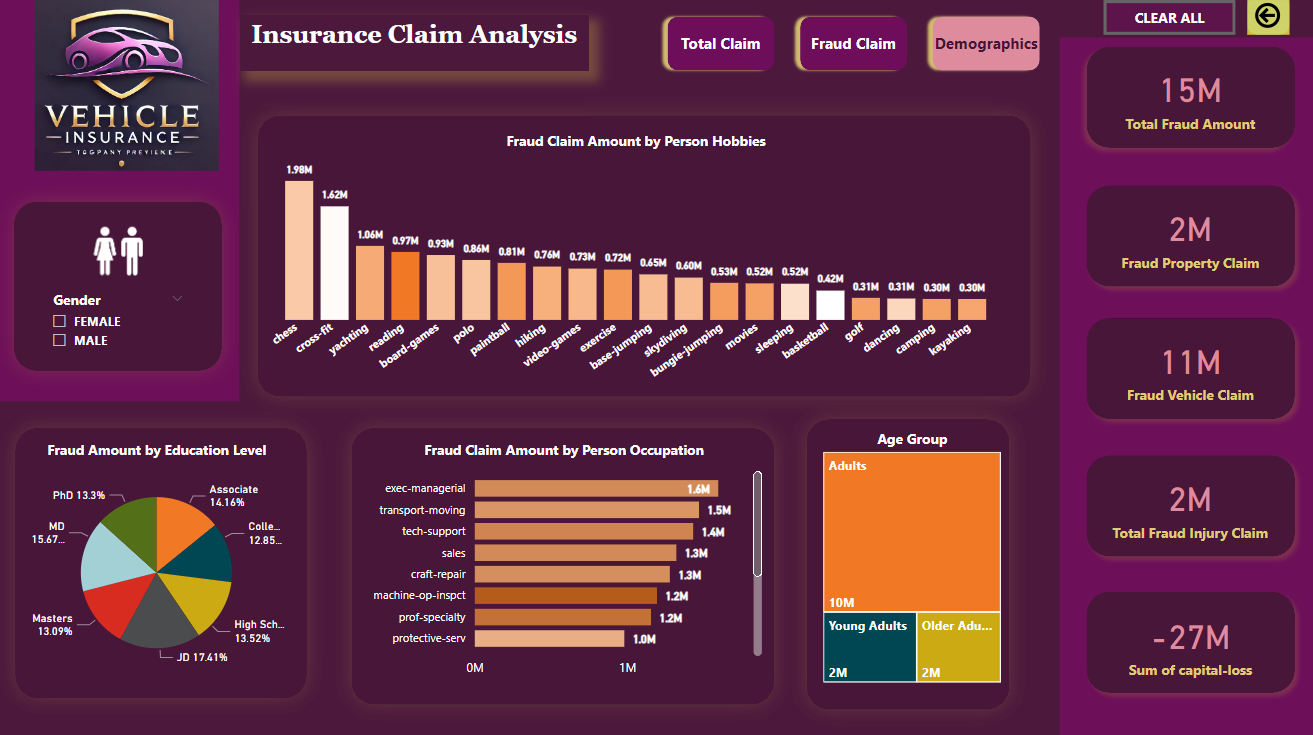

Layout of this report page (visuals, bound fields, positions):
{"tool":"powerbi","page":{"name":"Demographics","canvas":[1280,720],"ordinal":3},"visuals":[{"type":"shape","box":[1.2,0,234,392],"z":0},{"type":"shape","box":[1026.6,40.9,252.6,678.6],"z":1000},{"type":"shape","box":[325.6,400.4,442.6,301.5],"z":2000},{"type":"shape","box":[234.7,98.3,780.3,306],"z":3000},{"type":"textbox","box":[235.2,19.3,336.5,54.3],"z":4000},{"type":"pageNavigator","box":[640.4,13.3,375.1,67.5],"z":5000},{"type":"image","box":[25.3,0,201.4,174.9],"z":6000},{"type":"shape","box":[1043.1,303.1,219.1,115.6],"z":7000},{"type":"shape","box":[1043.1,435.8,219.1,115.6],"z":8000},{"type":"shape","box":[1043.1,567.2,219.1,115.6],"z":9000},{"type":"shape","box":[1043.1,175.3,219.1,115.6],"z":10000},{"type":"shape","box":[1043.1,41.4,219.1,115.6],"z":11000},{"type":"card","fields":{"Values":["InsuranceClaims.Total Fraud Amount"]},"box":[1067.5,56,170.4,86.4],"z":12000},{"type":"card","fields":{"Values":["InsuranceClaims.Fraud_PropertyClaimAmount"]},"box":[1067.5,189.9,170.4,86.4],"z":13000},{"type":"card","fields":{"Values":["InsuranceClaims.Fraud_VehicleClaimAmount"]},"box":[1067.5,317.7,170.4,86.4],"z":14000},{"type":"card","fields":{"Values":["InsuranceClaims.Fraud_InjuryClaimAmount"]},"box":[1067.5,451.6,170.4,84],"z":15000},{"type":"card","fields":{"Values":["Sum(InsuranceClaims.capital-loss)"]},"box":[1067.5,584.3,170.4,84],"z":16000},{"type":"shape","box":[764.6,392,230.4,314.8],"z":17000},{"type":"clusteredBarChart","title":"Fraud Claim Amount by Person Occupation","fields":{"Category":["InsuranceClaims.insured_occupation"],"Y":["InsuranceClaims.Fraud_ClaimAmount"]},"box":[352.2,429.3,392,237.6],"z":18000},{"type":"clusteredColumnChart","title":"Fraud Claim Amount by Person Hobbies","fields":{"Category":["InsuranceClaims.insured_hobbies"],"Y":["InsuranceClaims.Fraud_ClaimAmount"]},"box":[260.5,131.5,714,248.2],"z":19000},{"type":"treemap","title":"Age Group","fields":{"Values":["InsuranceClaims.Fraud_ClaimAmount"],"Group":["InsuranceClaims.Age Group"]},"box":[793.6,418.5,180.9,249.6],"z":20000},{"type":"shape","box":[1.2,400.4,316,295.5],"z":21000},{"type":"pieChart","title":"Fraud Amount by Education Level","fields":{"Y":["InsuranceClaims.Fraud_ClaimAmount"],"Category":["InsuranceClaims.insured_education_level"]},"box":[25.3,429.3,259.3,238.8],"z":22000},{"type":"actionButton","box":[1207.2,0,41,38.6],"z":23000},{"type":"shape","box":[0,182.1,235.2,197.8],"z":24000},{"type":"slicer","fields":{"Values":["InsuranceClaims.insured_sex"]},"box":[42.2,279.8,150.8,74.8],"z":25000},{"type":"actionButton","title":"CLEAR ALL","box":[1068.1,4.4,127.5,33.7],"z":26000},{"type":"image","box":[72.4,212.3,90.5,68.7],"z":27000}]}

Visuals, with their boxes in screenshot pixels (x1, y1, x2, y2), scaled from the page's 1280x720 canvas onto the 1313x735 screenshot:
shape: {"left": 1, "top": 0, "right": 241, "bottom": 400}
shape: {"left": 1053, "top": 42, "right": 1312, "bottom": 734}
shape: {"left": 334, "top": 409, "right": 788, "bottom": 717}
shape: {"left": 241, "top": 100, "right": 1041, "bottom": 413}
textbox: {"left": 241, "top": 20, "right": 586, "bottom": 75}
pageNavigator: {"left": 657, "top": 14, "right": 1042, "bottom": 82}
image: {"left": 26, "top": 0, "right": 233, "bottom": 179}
shape: {"left": 1070, "top": 309, "right": 1295, "bottom": 427}
shape: {"left": 1070, "top": 445, "right": 1295, "bottom": 563}
shape: {"left": 1070, "top": 579, "right": 1295, "bottom": 697}
shape: {"left": 1070, "top": 179, "right": 1295, "bottom": 297}
shape: {"left": 1070, "top": 42, "right": 1295, "bottom": 160}
card - InsuranceClaims.Total Fraud Amount: {"left": 1095, "top": 57, "right": 1270, "bottom": 145}
card - InsuranceClaims.Fraud_PropertyClaimAmount: {"left": 1095, "top": 194, "right": 1270, "bottom": 282}
card - InsuranceClaims.Fraud_VehicleClaimAmount: {"left": 1095, "top": 324, "right": 1270, "bottom": 413}
card - InsuranceClaims.Fraud_InjuryClaimAmount: {"left": 1095, "top": 461, "right": 1270, "bottom": 547}
card - Sum(InsuranceClaims.capital-loss): {"left": 1095, "top": 596, "right": 1270, "bottom": 682}
shape: {"left": 784, "top": 400, "right": 1021, "bottom": 722}
"Fraud Claim Amount by Person Occupation" clusteredBarChart: {"left": 361, "top": 438, "right": 763, "bottom": 681}
"Fraud Claim Amount by Person Hobbies" clusteredColumnChart: {"left": 267, "top": 134, "right": 1000, "bottom": 388}
"Age Group" treemap: {"left": 814, "top": 427, "right": 1000, "bottom": 682}
shape: {"left": 1, "top": 409, "right": 325, "bottom": 710}
"Fraud Amount by Education Level" pieChart: {"left": 26, "top": 438, "right": 292, "bottom": 682}
actionButton: {"left": 1238, "top": 0, "right": 1280, "bottom": 39}
shape: {"left": 0, "top": 186, "right": 241, "bottom": 388}
slicer - InsuranceClaims.insured_sex: {"left": 43, "top": 286, "right": 198, "bottom": 362}
"CLEAR ALL" actionButton: {"left": 1096, "top": 4, "right": 1226, "bottom": 39}
image: {"left": 74, "top": 217, "right": 167, "bottom": 287}
